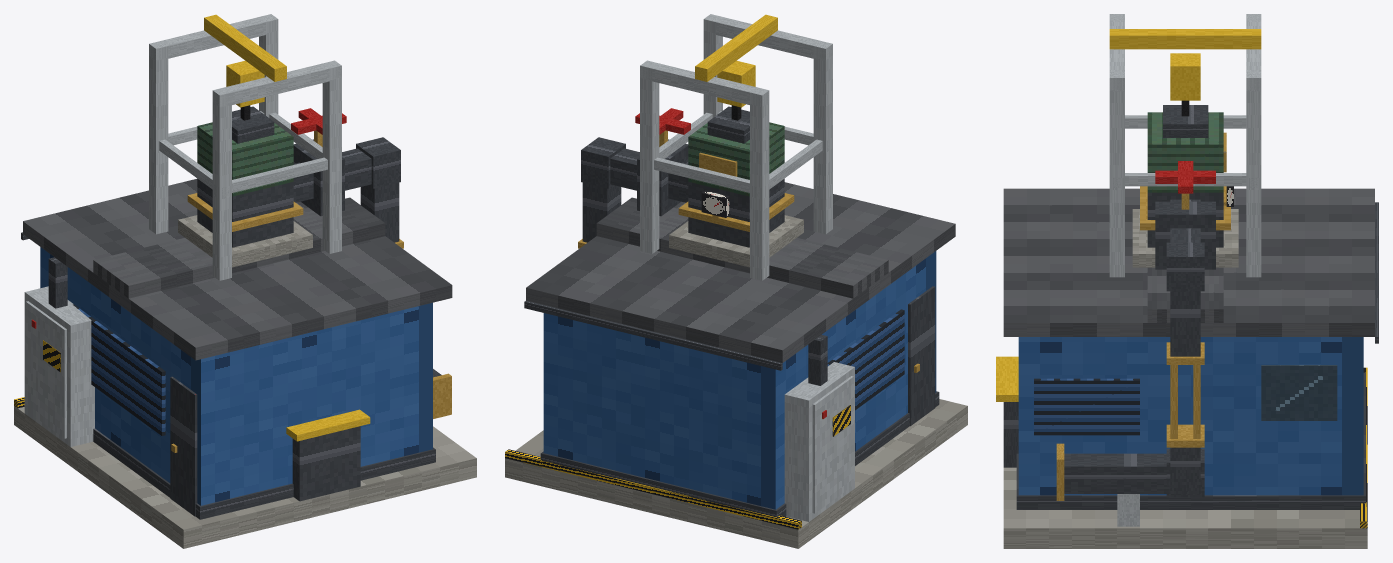
Rendered from borehole_pump.obj.
3 renders of one model, left to right at view 1: azimuth 30°, elevation 25°; view 2: azimuth 150°, elevation 25°; view 3: azimuth 270°, elevation 25°, orthographic. The views are drawn at different scales.
Parts seen in each view (by area): view 1: house, roof, plinth, roof_ridge, louvre_r, cabinet, cabinet_door, bearing, post2, house_skirt, post0, post3 (+21 smaller); view 2: house, roof, plinth, roof_ridge, cabinet, cabinet_door, post0, louvre_r, post2, post1, door_r, house_skirt (+22 smaller); view 3: roof, house, plinth, louvre_l, house_skirt, main_low, window_l, gear_drive, post1, post3, beam_c, valve_body (+27 smaller).
Part boxes in pixels (bbox=[...]): house: bbox=[40, 247, 432, 505]; roof: bbox=[23, 179, 452, 360]; plinth: bbox=[14, 406, 476, 548]; roof_ridge: bbox=[93, 197, 385, 298]; louvre_r: bbox=[73, 304, 165, 435]; cabinet: bbox=[24, 286, 94, 446]; cabinet_door: bbox=[25, 301, 66, 438]; bearing: bbox=[292, 426, 360, 501]; post2: bbox=[212, 87, 231, 280]; house_skirt: bbox=[93, 428, 435, 519]; post0: bbox=[149, 41, 168, 234]; post3: bbox=[322, 60, 341, 253]; house: bbox=[543, 251, 936, 509]; roof: bbox=[526, 182, 955, 362]; plinth: bbox=[505, 399, 967, 548]; roof_ridge: bbox=[596, 197, 888, 298]; cabinet: bbox=[784, 362, 854, 521]; cabinet_door: bbox=[812, 376, 853, 513]; post0: bbox=[750, 87, 769, 280]; louvre_r: bbox=[827, 309, 904, 410]; post2: bbox=[813, 41, 832, 234]; post1: bbox=[640, 60, 659, 253]; door_r: bbox=[908, 286, 935, 426]; house_skirt: bbox=[540, 391, 939, 517]; roof: bbox=[1003, 188, 1374, 336]; house: bbox=[1018, 337, 1363, 495]; plinth: bbox=[1003, 467, 1367, 548]; louvre_l: bbox=[1034, 378, 1139, 435]; house_skirt: bbox=[1016, 372, 1365, 509]; main_low: bbox=[1064, 453, 1170, 493]; window_l: bbox=[1261, 365, 1337, 420]; gear_drive: bbox=[1147, 112, 1223, 192]; post1: bbox=[1246, 71, 1261, 277]; post3: bbox=[1109, 71, 1124, 277]; beam_c: bbox=[1109, 29, 1261, 49]; valve_body: bbox=[1155, 201, 1215, 269].
Bounding box in the file's own units: 3.07 × 4 × 3.16.
